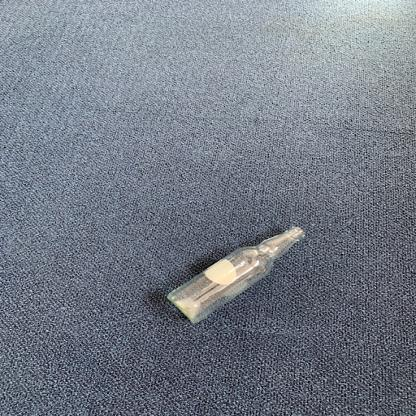trash: (165, 223, 313, 329)
